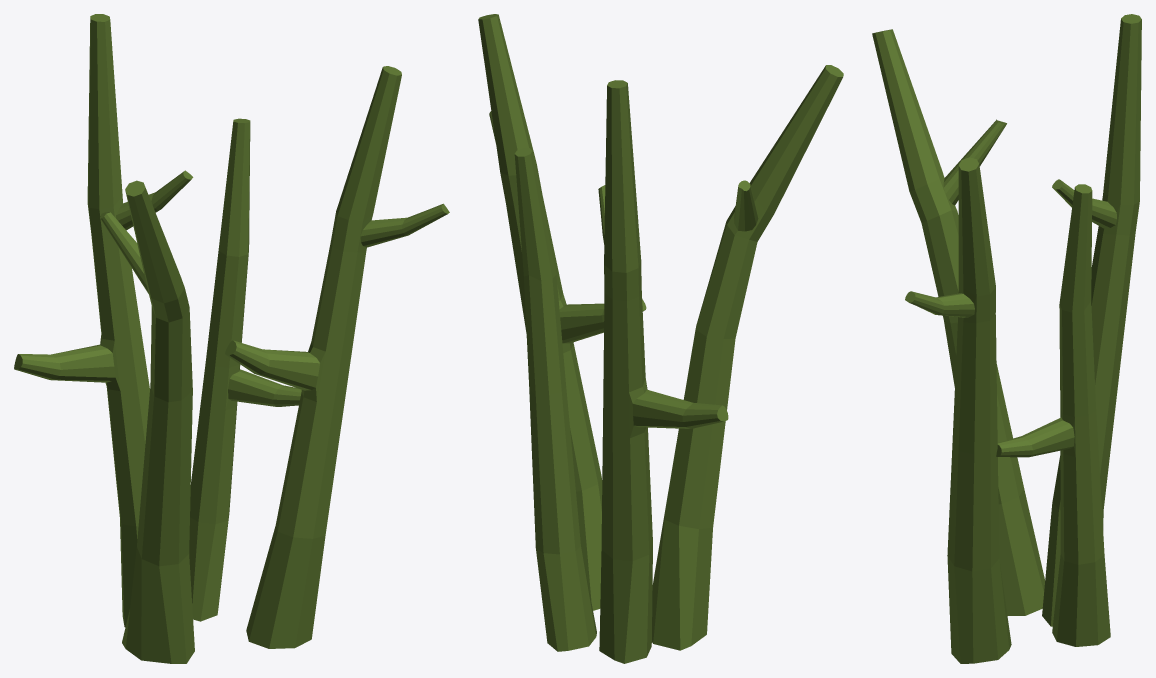
File: Reed_2.fbx
3 views of the same model, side by side, from view 1: azimuth 30°, elevation 25°; view 2: azimuth 150°, elevation 25°; view 3: azimuth 270°, elevation 25° (orthographic).
Visible parts, largest first — view 1: Reed_2; view 2: Reed_2; view 3: Reed_2.
Boxes of the visible parts, x1,y1,x2,y2 form: Reed_2: (14,14,449,663); Reed_2: (478,14,843,663); Reed_2: (872,14,1141,663).
Size of the model in its own units: 45.54 by 76.22 by 31.88.
